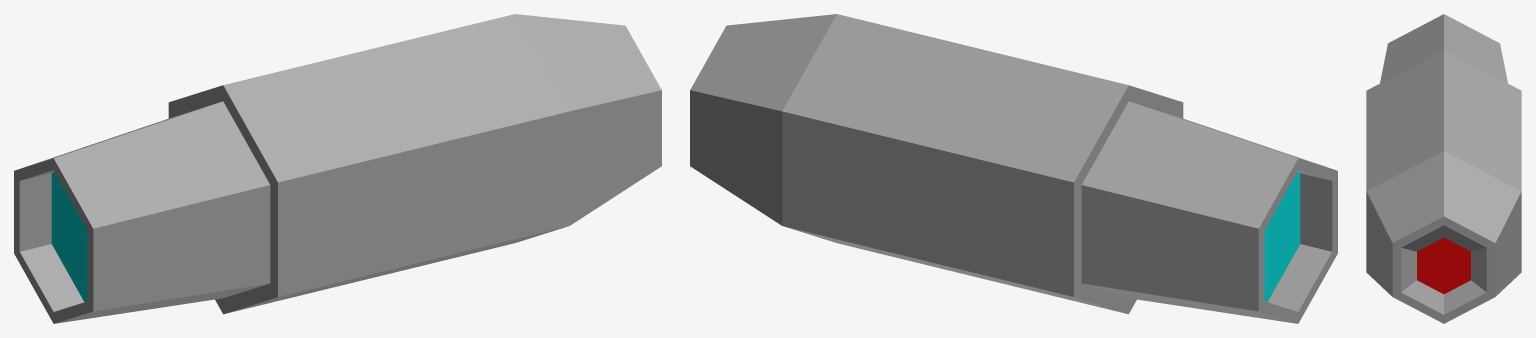
The model's file is SM_MissileBlockLarge.fbx.
The picture shows the model from 3 angles, left to right: view 1: azimuth 30°, elevation 25°; view 2: azimuth 150°, elevation 25°; view 3: azimuth 270°, elevation 25°; orthographic projection. The views are drawn at different scales.
Parts seen in each view (by area): view 1: polySurface8; view 2: polySurface8; view 3: polySurface8.
Part boxes in pixels (<box>): polySurface8: <box>14,14,661,323</box>; polySurface8: <box>690,14,1337,323</box>; polySurface8: <box>1366,14,1521,323</box>.
Bounding box in the file's own units: 2509 × 961 × 832.
